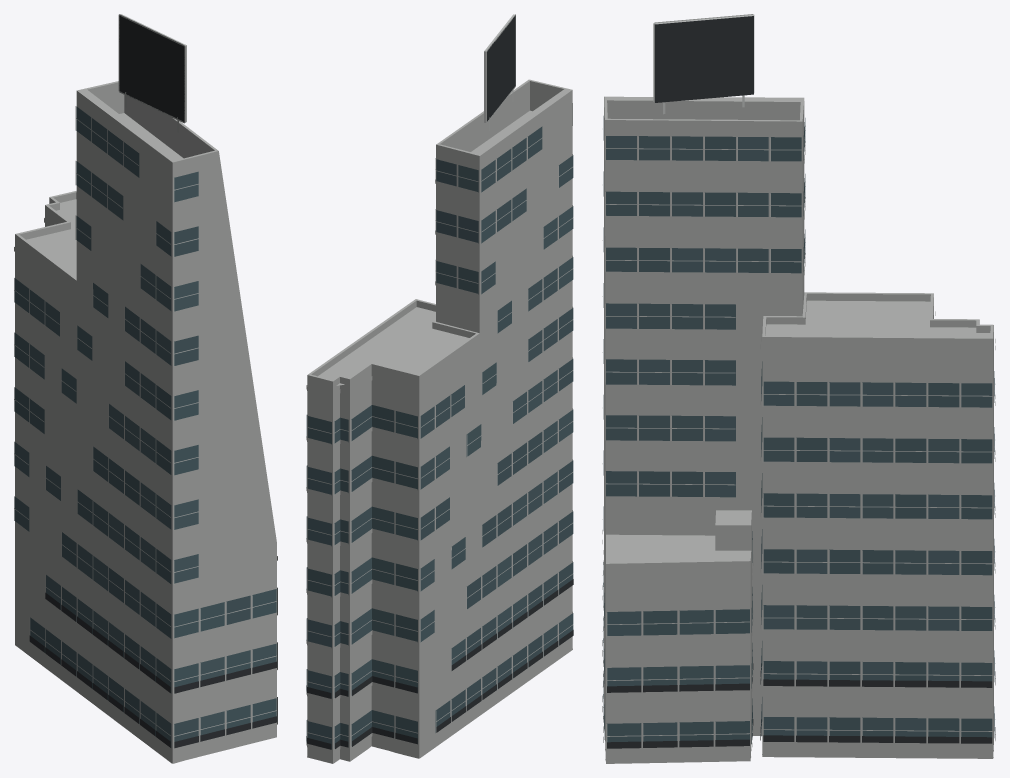
The model's file is east-mixeduse.glb.
3 renders of one model, left to right at view 1: azimuth 30°, elevation 25°; view 2: azimuth 150°, elevation 25°; view 3: azimuth 270°, elevation 25°, orthographic. The views are drawn at different scales.
Parts seen in each view (by area): view 1: east-mixeduse_wall, east-mixeduse_glass1, east-mixeduse_glass2, east-mixeduse_glass0, east-mixeduse_sign_housing, east-mixeduse_frame, east-mixeduse_roof, east-mixeduse_spandrel; view 2: east-mixeduse_wall, east-mixeduse_glass0, east-mixeduse_glass2, east-mixeduse_glass1, east-mixeduse_roof, east-mixeduse_frame, east-mixeduse_sign_housing, east-mixeduse_spandrel; view 3: east-mixeduse_wall, east-mixeduse_glass1, east-mixeduse_glass0, east-mixeduse_glass2, east-mixeduse_spandrel, east-mixeduse_sign_housing, east-mixeduse_roof, east-mixeduse_frame.
Part boxes in pixels (box(x1,y1,x2,y2)): east-mixeduse_wall: box(15, 82, 276, 763); east-mixeduse_glass1: box(14, 106, 277, 728); east-mixeduse_glass2: box(14, 161, 277, 747); east-mixeduse_glass0: box(14, 118, 250, 741); east-mixeduse_sign_housing: box(29, 15, 276, 748); east-mixeduse_frame: box(14, 14, 277, 748); east-mixeduse_roof: box(15, 81, 218, 280); east-mixeduse_spandrel: box(14, 218, 277, 751); east-mixeduse_wall: box(307, 81, 572, 763); east-mixeduse_glass0: box(306, 126, 573, 748); east-mixeduse_glass2: box(307, 165, 573, 749); east-mixeduse_glass1: box(306, 155, 573, 696); east-mixeduse_roof: box(308, 79, 572, 385); east-mixeduse_frame: box(307, 14, 573, 749); east-mixeduse_sign_housing: box(306, 15, 573, 749); east-mixeduse_spandrel: box(306, 179, 480, 753); east-mixeduse_wall: box(604, 97, 993, 763); east-mixeduse_glass1: box(603, 136, 994, 743); east-mixeduse_glass0: box(603, 127, 994, 740); east-mixeduse_glass2: box(603, 116, 994, 741); east-mixeduse_spandrel: box(602, 141, 995, 752); east-mixeduse_sign_housing: box(602, 16, 995, 748); east-mixeduse_roof: box(604, 96, 993, 563); east-mixeduse_frame: box(602, 14, 995, 748).
Bounding box in the file's own units: 8.84 × 54.02 × 27.22.
